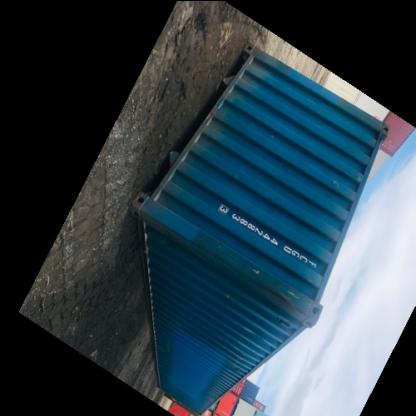Damage: (239, 278, 309, 308), (233, 316, 258, 367), (248, 264, 266, 274)
